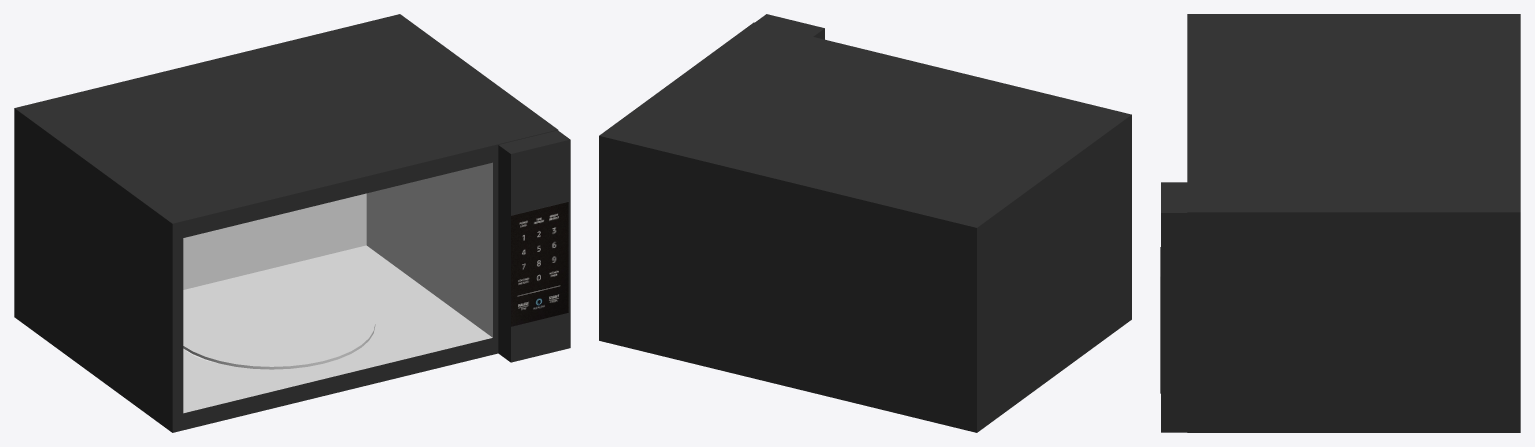
Rendered from wave.glb.
The picture shows the model from 3 angles, left to right: view 1: azimuth 30°, elevation 25°; view 2: azimuth 150°, elevation 25°; view 3: azimuth 270°, elevation 25°; orthographic projection. The views are drawn at different scales.
Parts seen in each view (by area): view 1: shell_1; view 2: shell_1; view 3: shell_1.
Boxes of the visible parts, x1,y1,x2,y2 form: shell_1: [14, 14, 570, 432]; shell_1: [599, 14, 1131, 432]; shell_1: [1160, 14, 1520, 432].
Bounding box in the file's own units: 30.12 × 15.61 × 23.12.
Materials: 5 (1 with a texture image).
